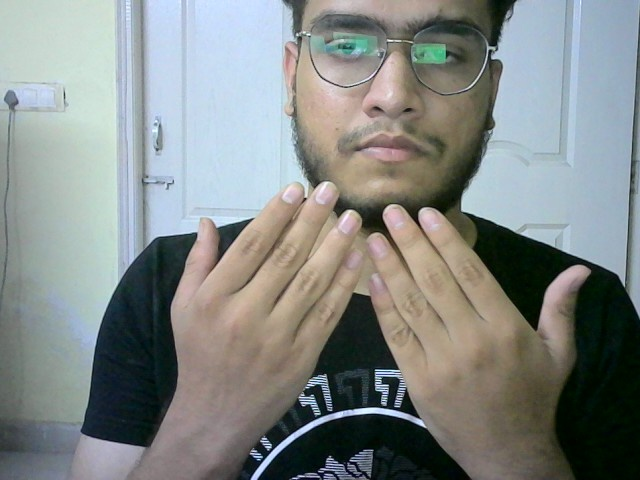Thank You: (168, 175, 612, 417)
